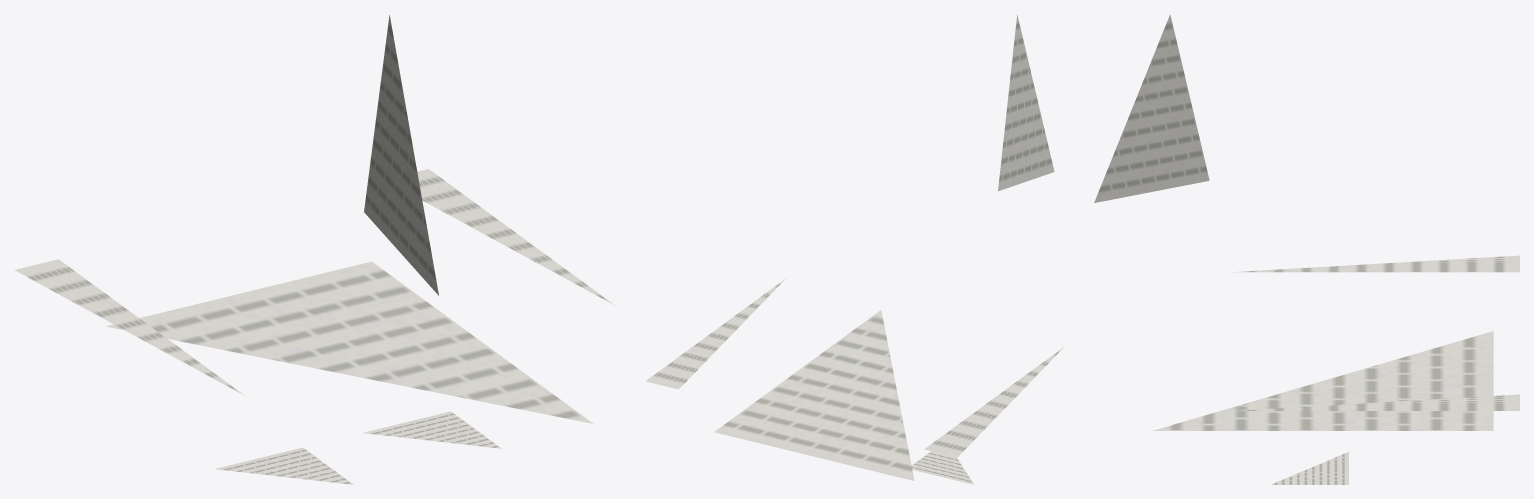
Rendered from chicken_white.obj.
3 renders of one model, left to right at view 1: azimuth 30°, elevation 25°; view 2: azimuth 150°, elevation 25°; view 3: azimuth 270°, elevation 25°, orthographic. The views are drawn at different scales.
Visible parts, largest first — view 1: Body, Head, Wing_L, Wing_R, Leg_L, Leg_R; view 2: Body, Head, Wing_R, Wing_L, Leg_L; view 3: Body, Head, Wing_L, Wing_R, Leg_R.
Part boxes in pixels (x1,y1,x2,y2): Body: (105, 261, 593, 423); Head: (364, 15, 438, 295); Wing_L: (14, 259, 244, 395); Wing_R: (417, 169, 615, 305); Leg_L: (214, 447, 353, 484); Leg_R: (363, 411, 501, 448); Body: (714, 310, 914, 480); Head: (998, 15, 1054, 191); Wing_R: (645, 278, 786, 389); Wing_L: (924, 346, 1064, 457); Leg_L: (911, 451, 973, 484); Body: (1152, 331, 1493, 430); Head: (1094, 14, 1209, 202); Wing_L: (1232, 255, 1519, 272); Wing_R: (1236, 394, 1519, 410); Leg_R: (1271, 452, 1348, 484).
Bounding box in the file's own units: 0.28 × 0.3394 × 0.324.
Materials: 1 (1 with a texture image).
